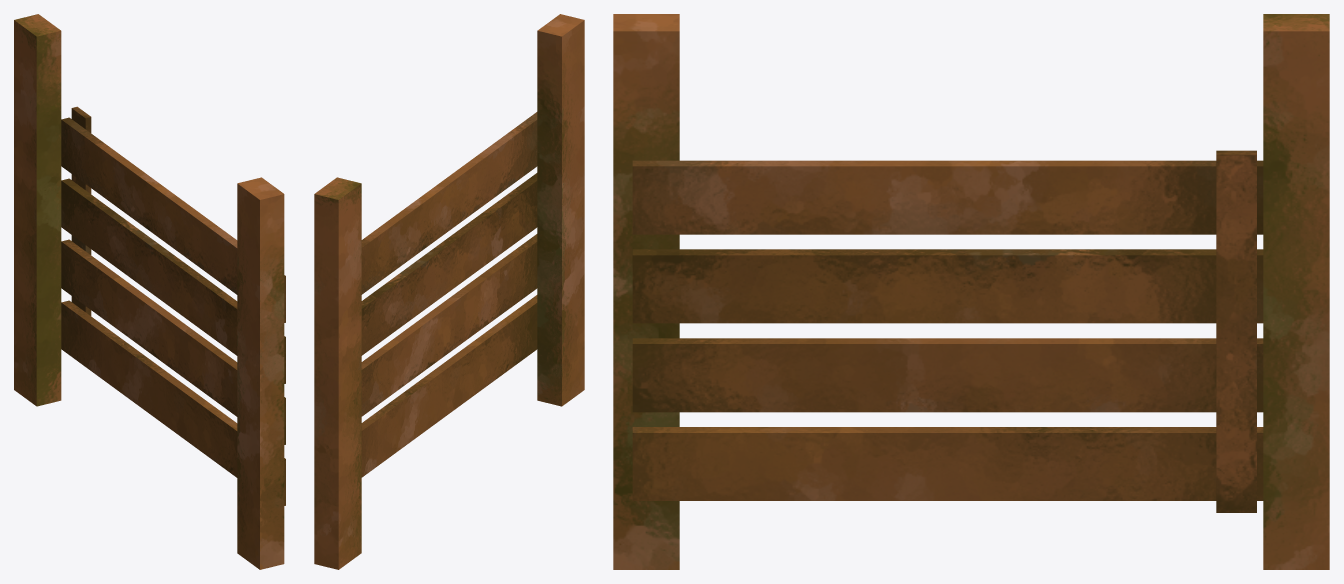
The model's file is Portao.fbx.
3 renders of one model, left to right at view 1: azimuth 30°, elevation 25°; view 2: azimuth 150°, elevation 25°; view 3: azimuth 270°, elevation 25°, orthographic. The views are drawn at different scales.
Visible parts, largest first — view 1: Porta_cerca_Mesh, Portao_Mesh; view 2: Porta_cerca_Mesh, Portao_Mesh; view 3: Porta_cerca_Mesh, Portao_Mesh.
Part boxes in pixels (<box>): Porta_cerca_Mesh: <box>61,106,285,505</box>; Portao_Mesh: <box>14,14,284,569</box>; Porta_cerca_Mesh: <box>361,112,537,477</box>; Portao_Mesh: <box>314,14,584,569</box>; Porta_cerca_Mesh: <box>632,150,1263,512</box>; Portao_Mesh: <box>613,14,1329,569</box>.
Size of the model in its own units: 9.91 by 90.98 by 110.
Materials: 2 (2 with a texture image).
